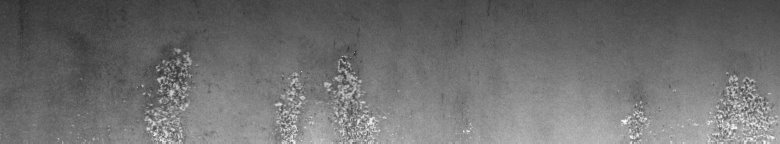hc: (137, 44, 198, 136)
